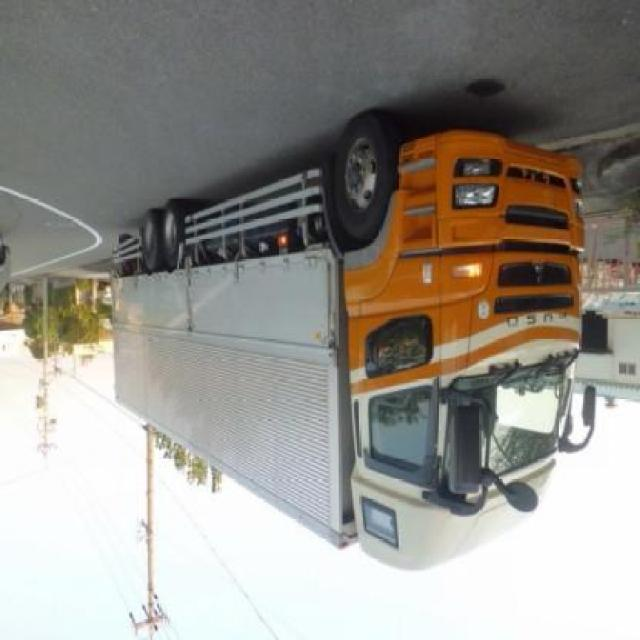truck: (114, 113, 602, 577)
